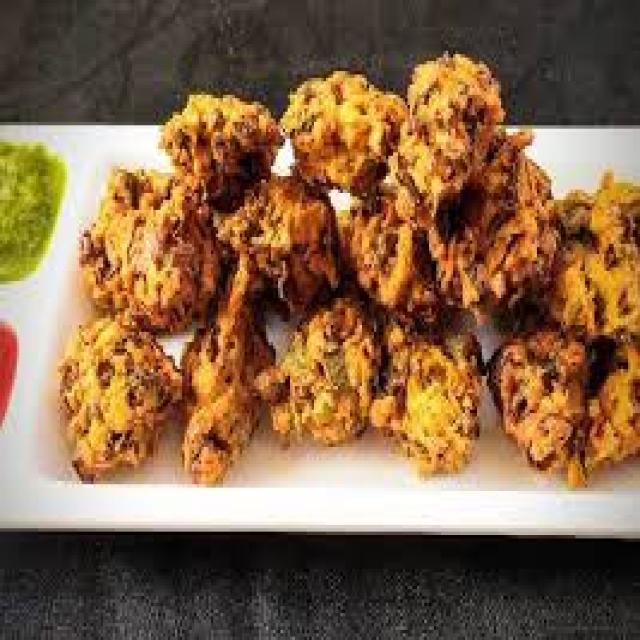BAJI: (185, 262, 286, 493), (82, 170, 220, 337), (495, 322, 638, 469), (443, 140, 560, 310), (60, 317, 178, 484), (379, 323, 484, 483), (540, 181, 638, 340), (221, 178, 343, 303), (286, 72, 406, 195), (337, 186, 446, 315), (287, 306, 382, 451), (160, 103, 274, 216), (408, 61, 500, 194)
